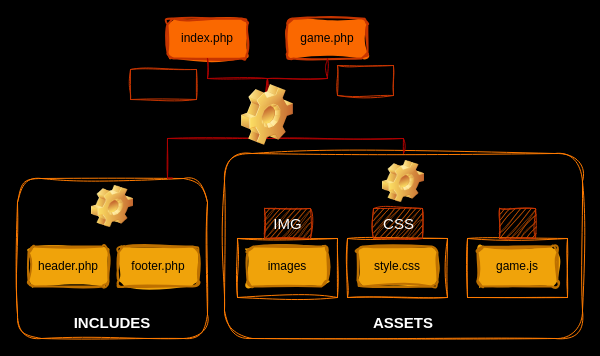
Some shapes in this 600 by 356 pixel diagram are drawn without their labels. Here are the shapes that lost their labels. From the top down, the centre of each, then its label:
(163,84): Accueil
(365,80): Jouer
(517,223): JS
